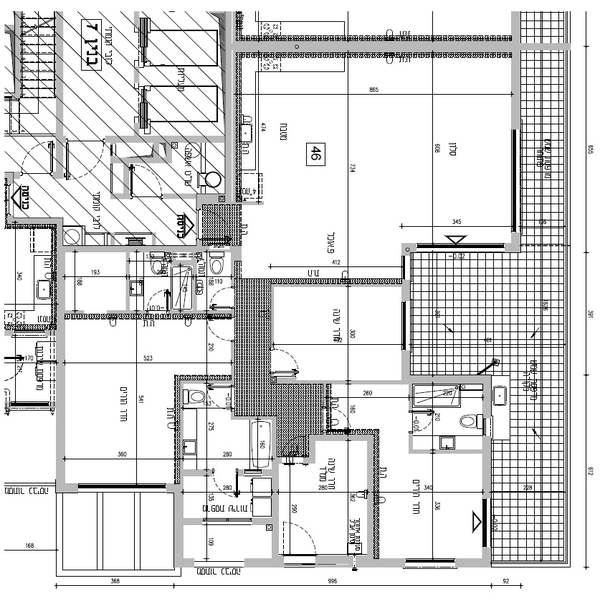door: (282, 514, 320, 571), (67, 137, 110, 180), (206, 317, 250, 354), (131, 159, 170, 200), (17, 144, 59, 179), (209, 470, 251, 501), (138, 282, 172, 319), (195, 289, 241, 313), (272, 345, 297, 384), (324, 400, 354, 428)
room: (213, 29, 527, 284), (6, 137, 241, 252), (60, 306, 173, 487), (172, 383, 277, 570), (377, 428, 499, 568), (263, 285, 416, 391), (274, 433, 384, 568), (41, 246, 201, 322)
wall: (227, 34, 516, 58), (52, 215, 72, 495), (220, 12, 244, 205), (364, 421, 383, 555), (60, 239, 199, 256), (271, 421, 287, 564), (316, 548, 410, 572), (54, 16, 67, 178), (167, 487, 189, 565), (103, 133, 230, 146), (510, 13, 524, 130), (403, 372, 504, 388), (277, 374, 403, 386), (398, 445, 486, 458), (479, 434, 495, 503), (306, 431, 378, 446), (122, 260, 133, 318), (398, 278, 421, 303), (120, 154, 179, 163), (484, 374, 496, 416), (459, 555, 496, 566), (509, 230, 527, 252), (197, 192, 225, 205)
window: (407, 550, 457, 571), (398, 297, 416, 351)
